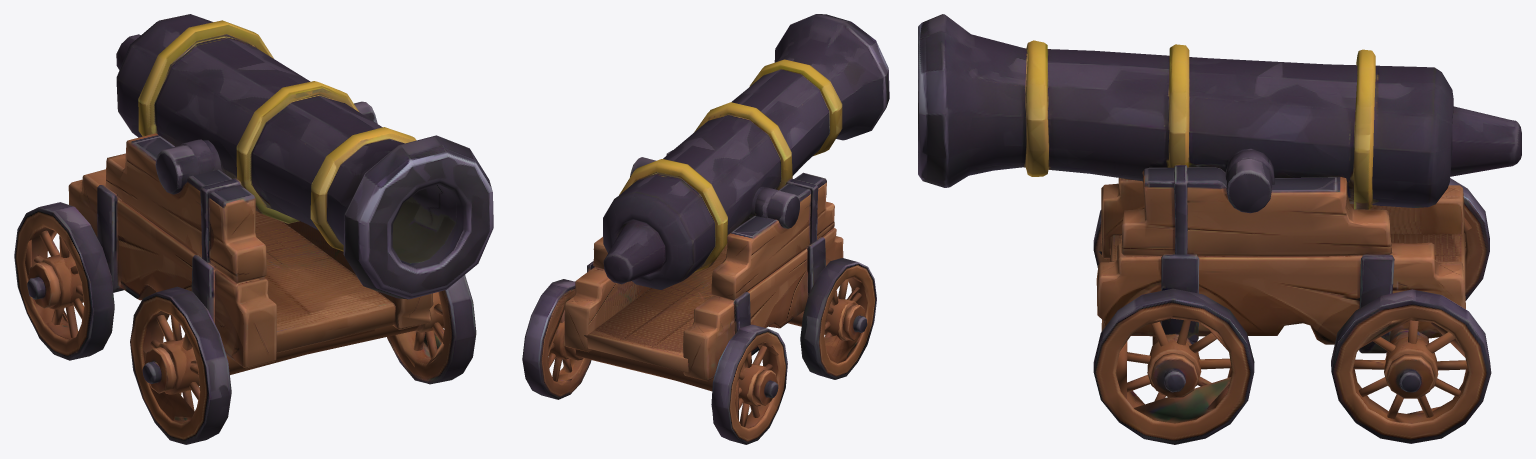
The model's file is canon_barco.glb.
3 renders of one model, left to right at view 1: azimuth 30°, elevation 25°; view 2: azimuth 150°, elevation 25°; view 3: azimuth 270°, elevation 25°, orthographic. The views are drawn at different scales.
Bounding box in the file's own units: 0.6094 × 0.6523 × 1.
Materials: 1 (1 with a texture image).
